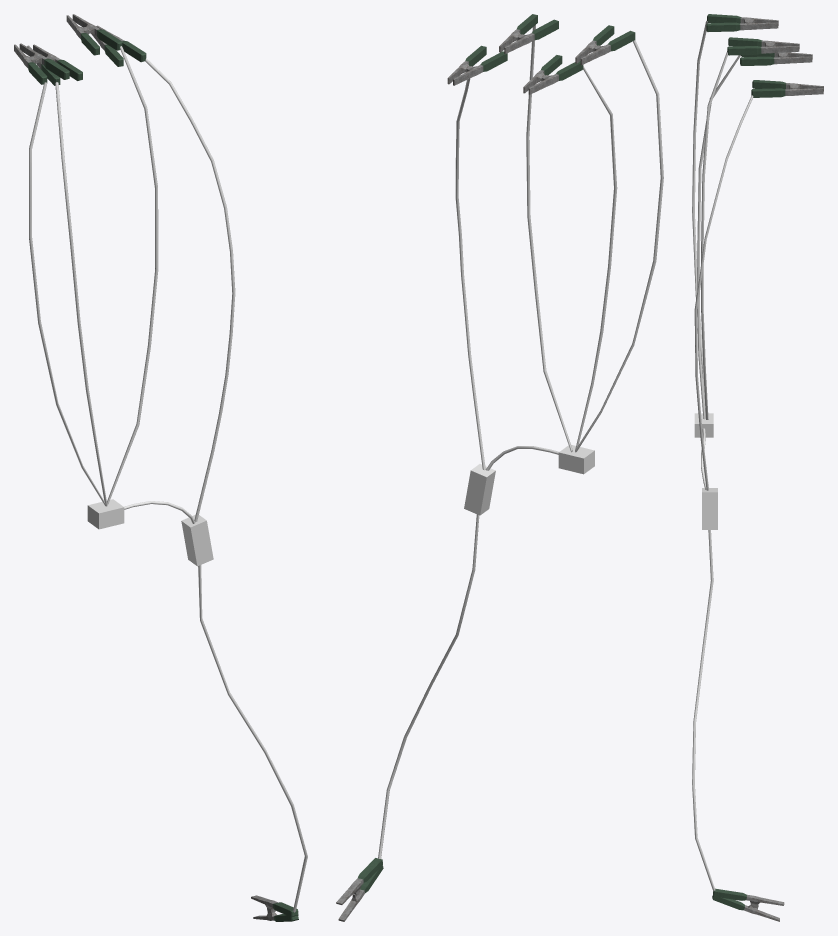
The model's file is pinzas.fbx.
3 renders of one model, left to right at view 1: azimuth 30°, elevation 25°; view 2: azimuth 150°, elevation 25°; view 3: azimuth 270°, elevation 25°, orthographic. The views are drawn at different scales.
Parts seen in each view (by area): view 1: Cables_tablero, Pinzas_tablero, Plastico_tablero; view 2: Cables_tablero, Pinzas_tablero, Plastico_tablero; view 3: Cables_tablero, Pinzas_tablero, Plastico_tablero.
Boxes of the visible parts, <box> form: Cables_tablero: <box>29,46,307,912</box>; Pinzas_tablero: <box>14,14,298,921</box>; Plastico_tablero: <box>87,499,213,566</box>; Cables_tablero: <box>378,25,663,858</box>; Pinzas_tablero: <box>336,14,635,921</box>; Plastico_tablero: <box>464,444,594,515</box>; Cables_tablero: <box>692,19,753,890</box>; Pinzas_tablero: <box>706,14,823,921</box>; Plastico_tablero: <box>694,413,717,529</box>.
Bounding box in the file's own units: 19.07 × 60.9 × 9.06.
1 material, 1 textured.
